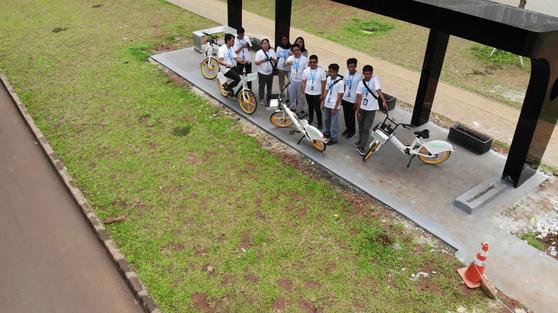bike: (357, 110, 458, 173), (263, 78, 334, 157), (213, 60, 261, 120), (199, 27, 222, 87)
